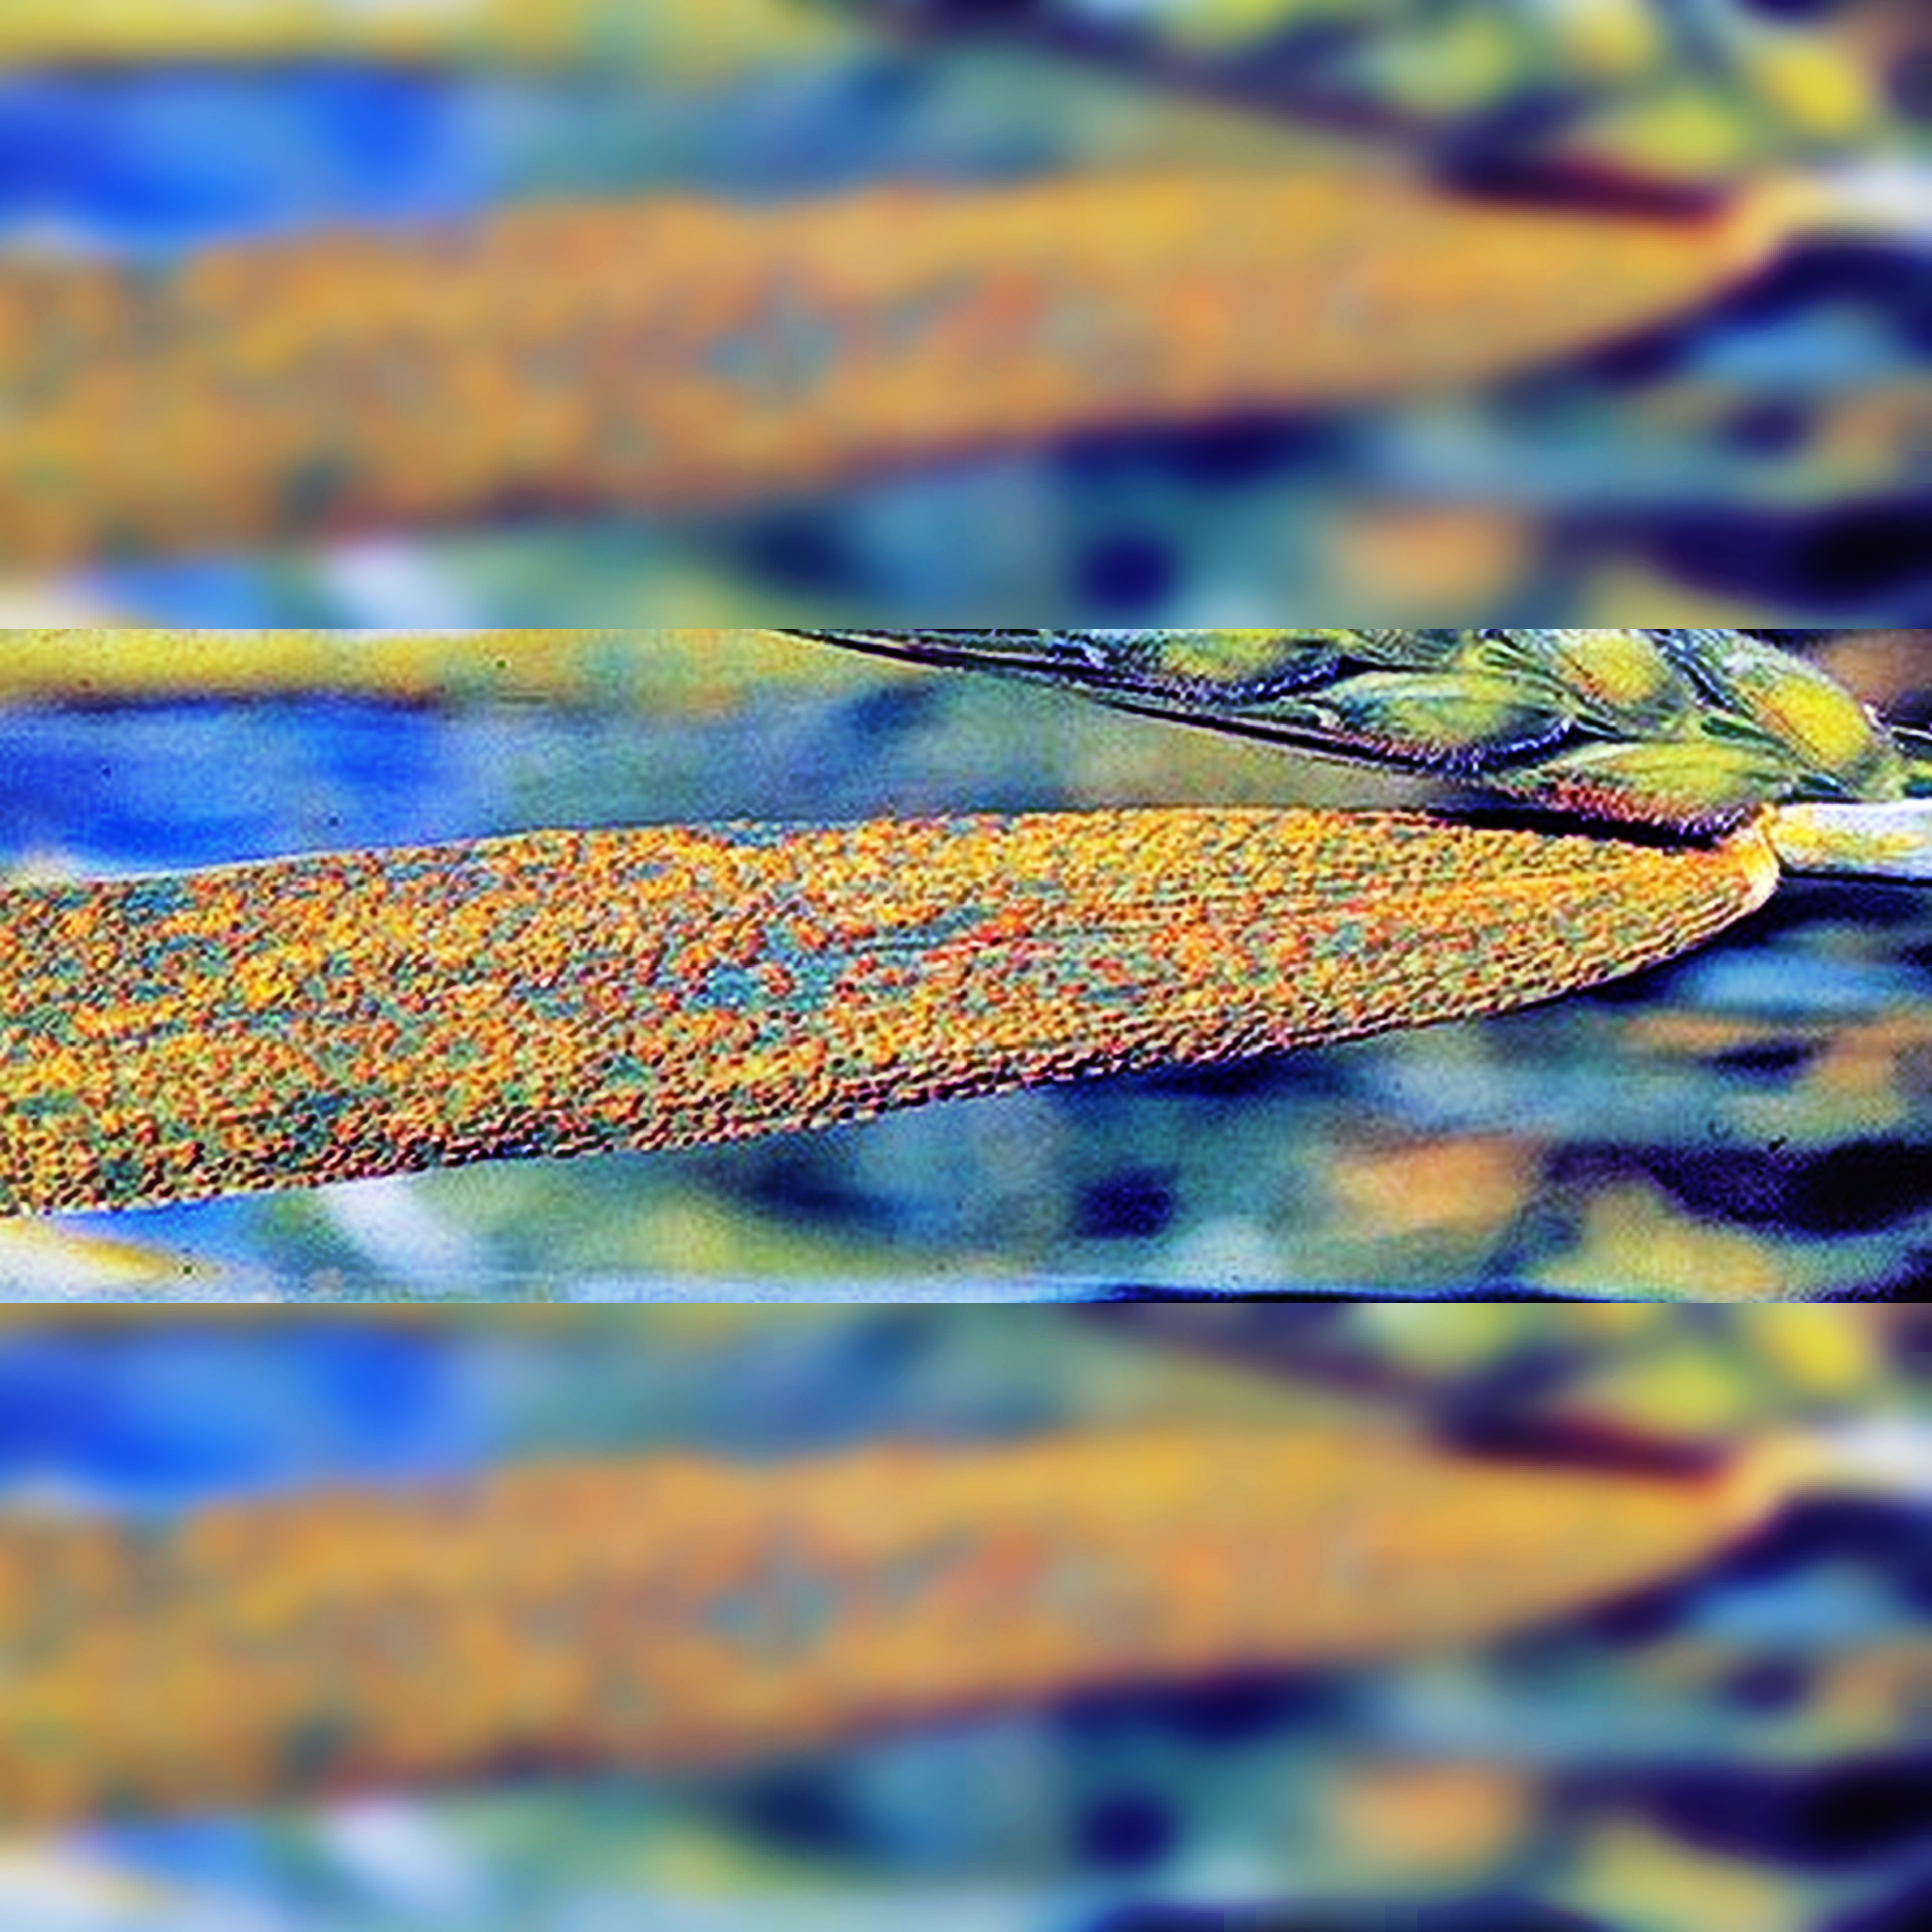Leaf Rust: (21, 789, 1697, 1238)
